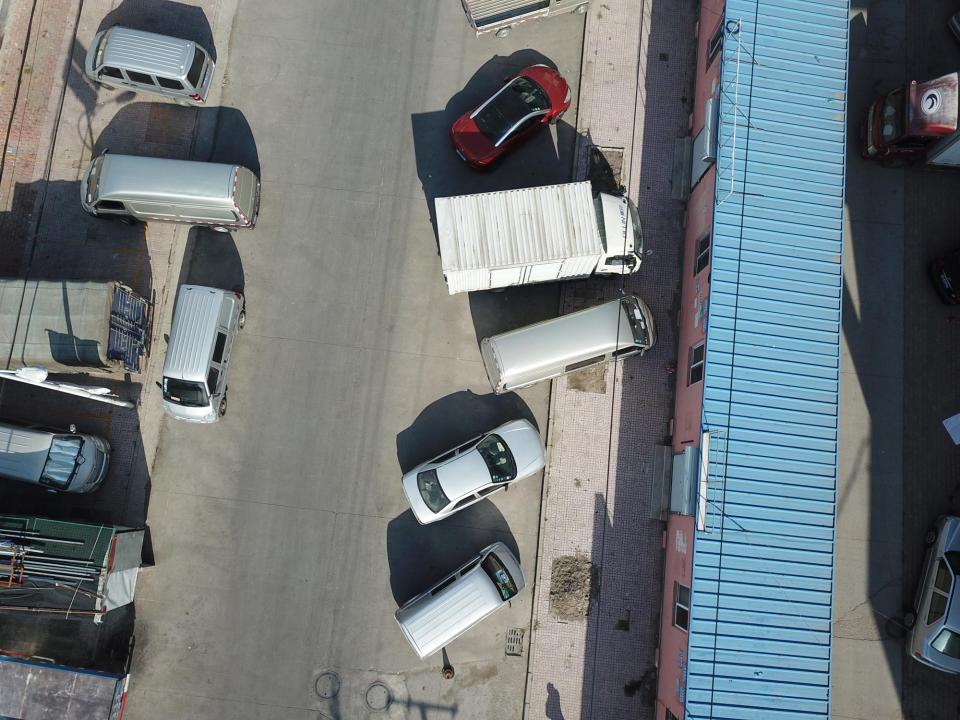car: (396, 416, 552, 526), (448, 59, 574, 174), (900, 506, 960, 677)
truck: (428, 177, 642, 296), (0, 274, 150, 388), (0, 648, 131, 720), (863, 70, 960, 162)
van: (480, 292, 658, 396), (390, 542, 528, 665), (79, 146, 259, 232), (158, 282, 248, 423), (82, 23, 216, 106), (0, 423, 113, 503)
